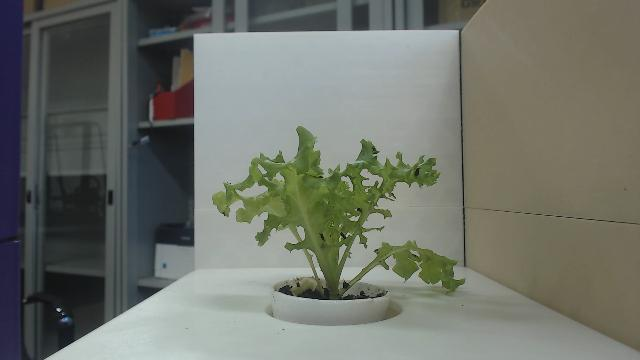Vegetative Stage: (210, 124, 466, 298)
